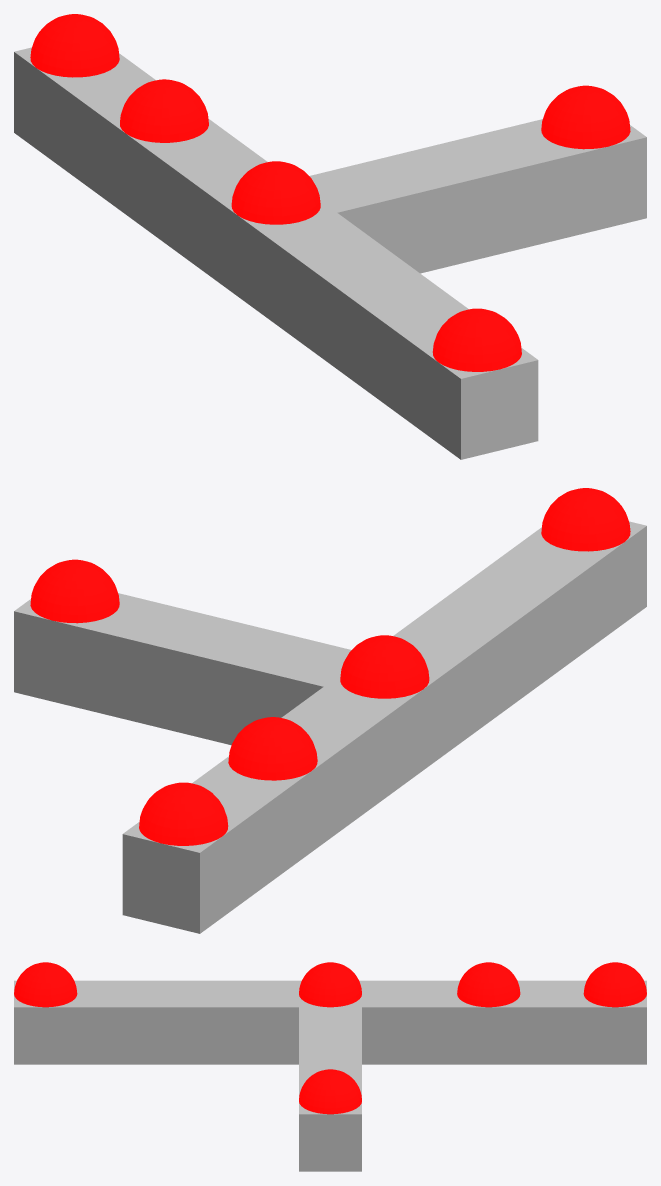
The model's file is ir_marker_7.dae.
3 views of the same model, one above another, from view 1: azimuth 30°, elevation 25°; view 2: azimuth 150°, elevation 25°; view 3: azimuth 270°, elevation 25° (orthographic). The views are drawn at different scales.
Visible parts, largest first — view 1: bar_lr, bar_fb, marker_c, marker_l, marker_r, marker_i, marker_f; view 2: bar_lr, bar_fb, marker_i, marker_c, marker_l, marker_r, marker_f; view 3: bar_lr, bar_fb, marker_l, marker_r, marker_i, marker_c, marker_f.
Boxes of the visible parts, left/top/right/bottom form: bar_lr: left=14, top=47, right=538, bottom=459; bar_fb: left=309, top=119, right=646, bottom=273; marker_c: left=231, top=161, right=320, bottom=224; marker_l: left=30, top=14, right=119, bottom=77; marker_r: left=432, top=308, right=521, bottom=371; marker_i: left=120, top=79, right=208, bottom=142; marker_f: left=541, top=85, right=630, bottom=149; bar_lr: left=122, top=521, right=646, bottom=933; bar_fb: left=14, top=593, right=351, bottom=745; marker_i: left=228, top=717, right=317, bottom=780; marker_c: left=340, top=635, right=429, bottom=698; marker_l: left=139, top=782, right=228, bottom=845; marker_r: left=541, top=488, right=630, bottom=551; marker_f: left=30, top=559, right=119, bottom=623; bar_lr: left=14, top=980, right=646, bottom=1064; bar_fb: left=299, top=1007, right=361, bottom=1171; marker_l: left=583, top=962, right=646, bottom=1007; marker_r: left=14, top=962, right=77, bottom=1007; marker_i: left=457, top=962, right=520, bottom=1007; marker_c: left=299, top=962, right=361, bottom=1007; marker_f: left=299, top=1069, right=361, bottom=1114.
Size of the model in its own units: 0.05 by 0.1 by 0.015.
